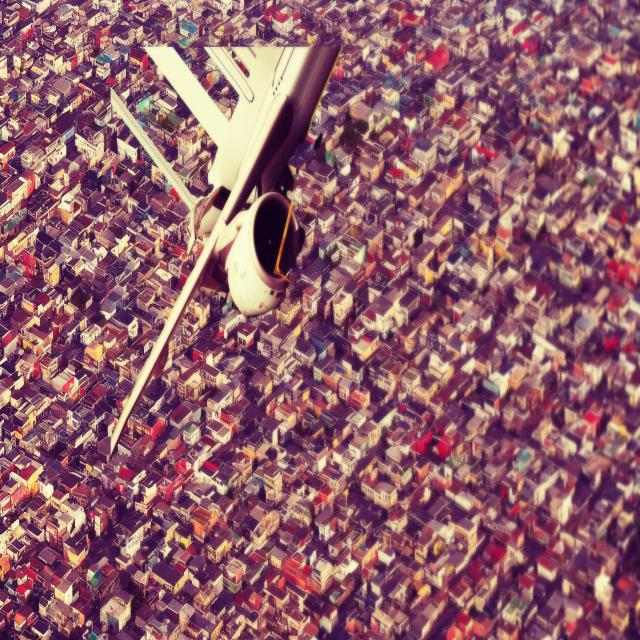airplane: (104, 33, 343, 462)
